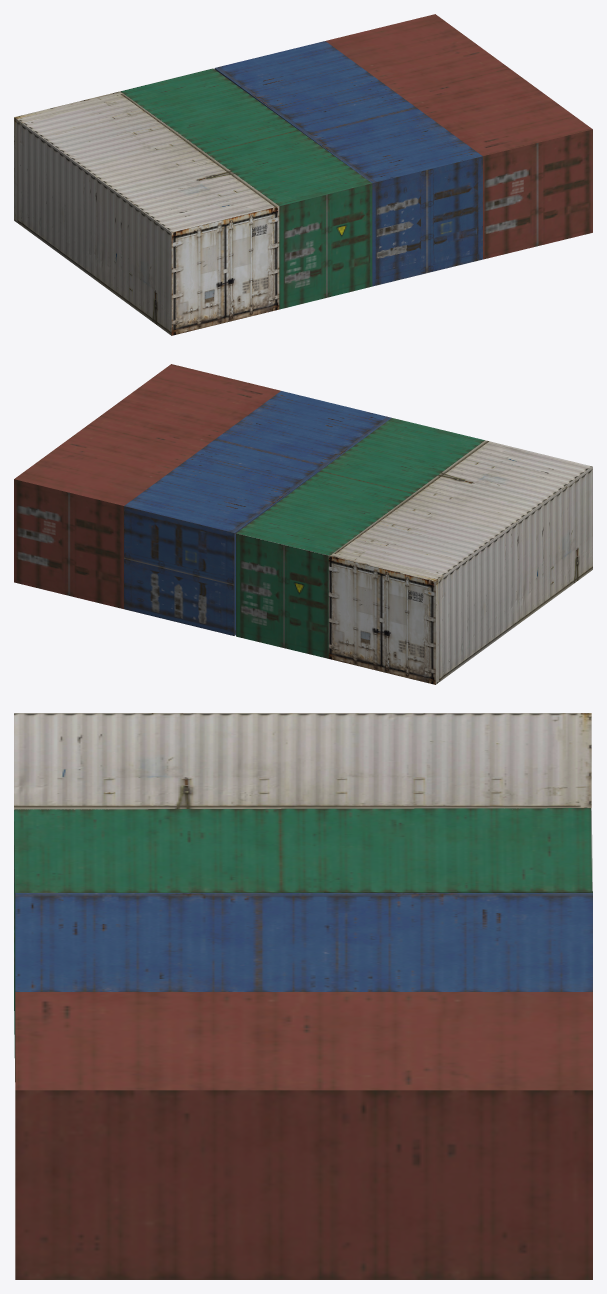
File: centerain.fbx
3 views of the same model, one above another, from view 1: azimuth 30°, elevation 25°; view 2: azimuth 150°, elevation 25°; view 3: azimuth 270°, elevation 25° (orthographic). The views are drawn at different scales.
Visible parts, largest first — view 1: centerain33, centerain, centerain32, centerain31; view 2: centerain33, centerain, centerain32, centerain31; view 3: centerain32, centerain, centerain33, centerain31.
Part boxes in pixels (bbox=[...]): centerain33: bbox=[14, 91, 279, 335]; centerain: bbox=[214, 41, 482, 286]; centerain32: bbox=[326, 14, 592, 259]; centerain31: bbox=[120, 68, 372, 309]; centerain33: bbox=[328, 440, 592, 684]; centerain: bbox=[124, 391, 391, 635]; centerain32: bbox=[14, 364, 280, 608]; centerain31: bbox=[236, 418, 484, 658]; centerain32: bbox=[15, 992, 592, 1279]; centerain: bbox=[15, 893, 592, 991]; centerain33: bbox=[14, 713, 591, 809]; centerain31: bbox=[14, 808, 592, 1081].
Size of the model in its own units: 2235 by 523 by 1449.
